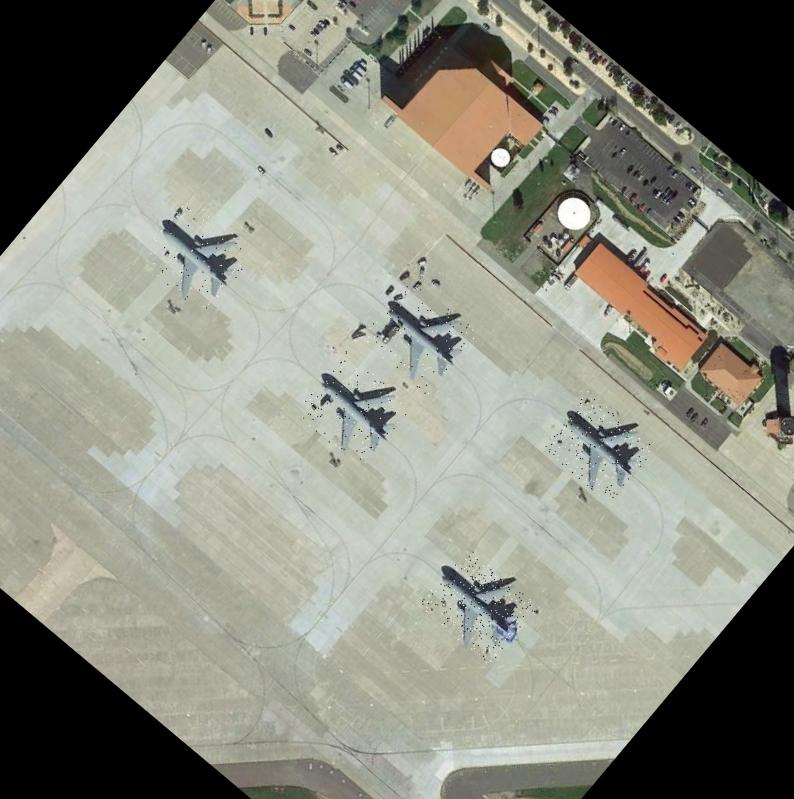A18: (134, 194, 256, 315), (358, 276, 480, 396), (418, 546, 538, 665), (293, 350, 412, 468), (540, 390, 656, 504)
